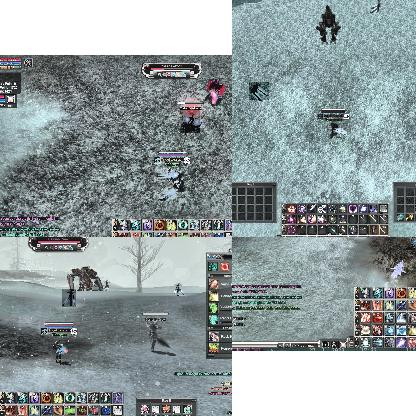caliana: (146, 322, 170, 354), (180, 109, 200, 133), (249, 82, 269, 100), (62, 289, 76, 307), (370, 0, 382, 12), (174, 284, 184, 296), (103, 280, 108, 292)
